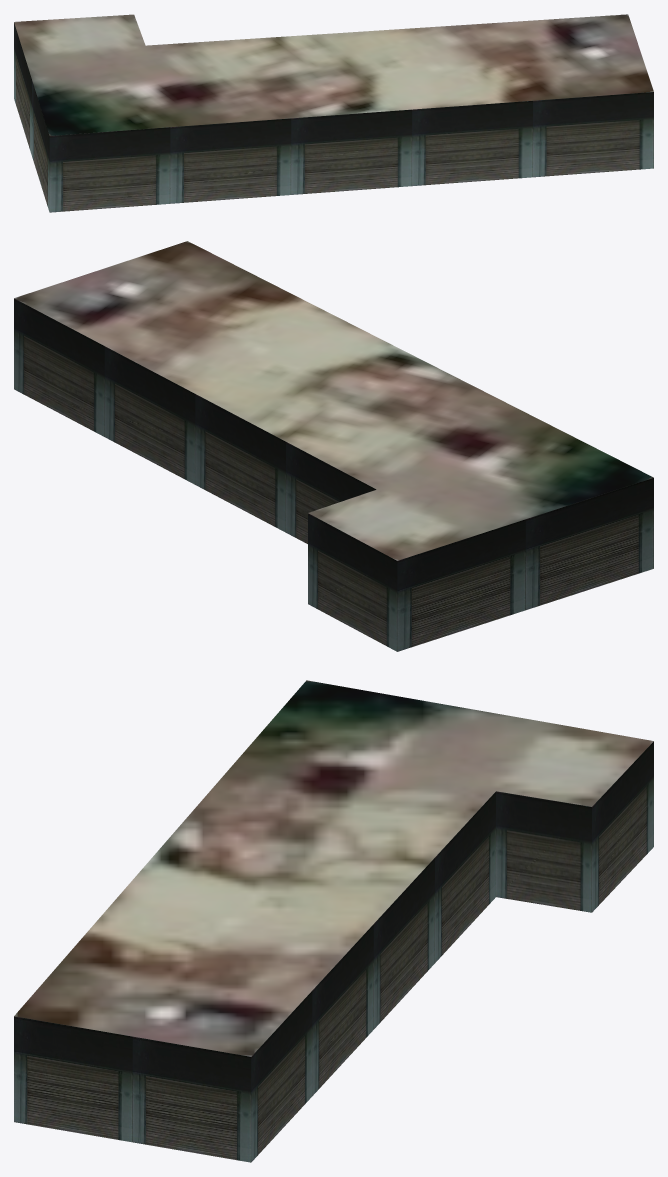
Rendered from T_1T8JE4PFV1.dae.
3 renders of one model, top to bottom at view 1: azimuth 30°, elevation 25°; view 2: azimuth 150°, elevation 25°; view 3: azimuth 270°, elevation 25°, orthographic. The views are drawn at different scales.
Parts seen in each view (by area): view 1: SketchUp (×3); view 2: SketchUp (×4); view 3: SketchUp (×5).
Boxes of the visible parts, left/top/right/bottom form: SketchUp (×3): left=14, top=14, right=653, bottom=212; SketchUp (×4): left=14, top=241, right=653, bottom=651; SketchUp (×5): left=14, top=680, right=653, bottom=1162.
Bounding box in the file's own units: 26.62 × 19.12 × 3.49.
Materials: 2 (2 with a texture image).
